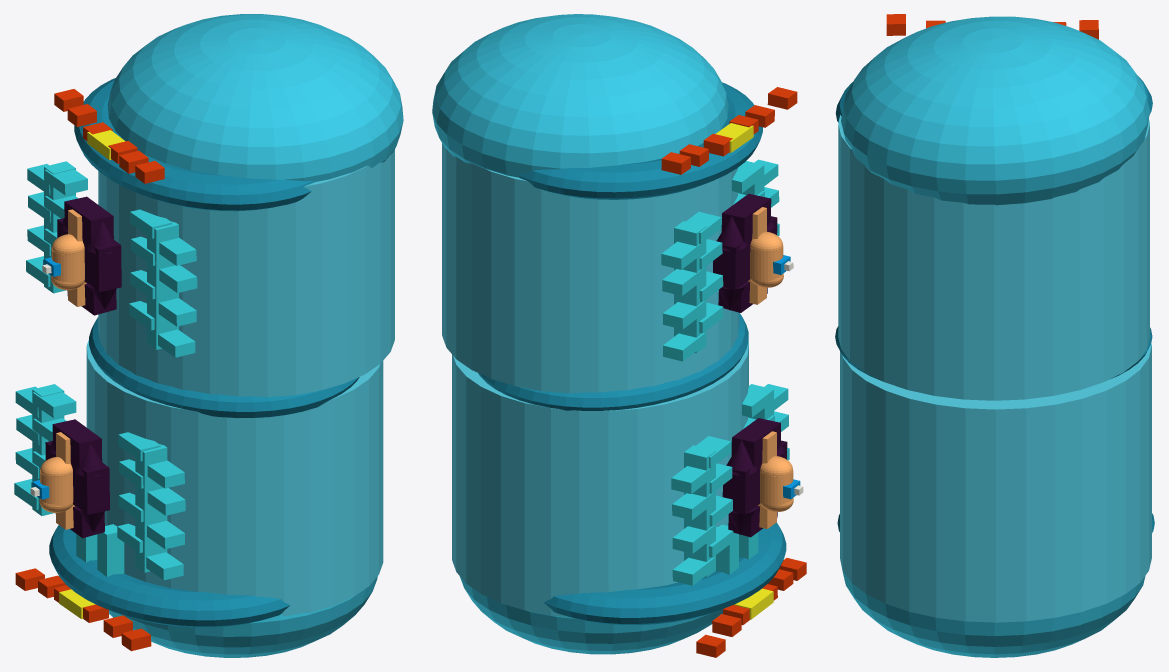
Rendered from cilindrogrande3.fbx.
3 renders of one model, left to right at view 1: azimuth 30°, elevation 25°; view 2: azimuth 150°, elevation 25°; view 3: azimuth 270°, elevation 25°, orthographic. The views are drawn at different scales.
Parts seen in each view (by area): view 1: Cubo.003; view 2: Cubo.003; view 3: Cubo.003.
Boxes of the visible parts, box(x1,y1,x2,y2) form: Cubo.003: box(14, 14, 403, 657); Cubo.003: box(432, 14, 806, 657); Cubo.003: box(835, 14, 1154, 657).
Bounding box in the file's own units: 3102 × 5004 × 2387.
